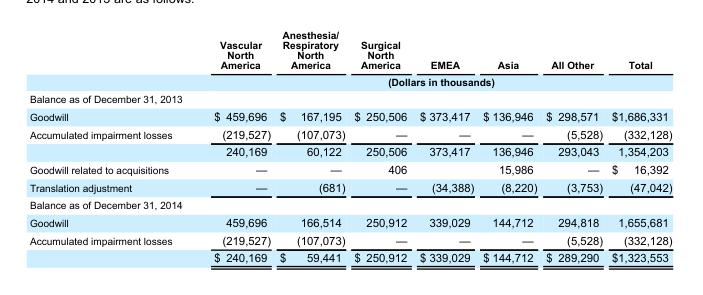table: (28, 28, 671, 263)
table column: (28, 28, 192, 263), (192, 28, 274, 263), (274, 28, 348, 263), (540, 28, 606, 263), (412, 28, 477, 263), (606, 28, 671, 263), (348, 28, 412, 263), (477, 28, 540, 263)
table column header: (28, 28, 671, 90)
table projected row header: (28, 90, 671, 107), (28, 196, 671, 213)
table row: (28, 28, 671, 72), (28, 177, 671, 196), (28, 72, 671, 90), (28, 124, 671, 142), (28, 142, 671, 160), (28, 230, 671, 248), (28, 90, 671, 107), (28, 107, 671, 124), (28, 160, 671, 177), (28, 196, 671, 213), (28, 213, 671, 230), (28, 248, 671, 263)
table spanning cell: (192, 72, 671, 90)
